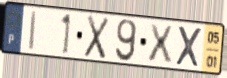1: (59, 13, 72, 56)
9: (115, 18, 138, 64)
I: (27, 9, 38, 54)
X: (83, 14, 111, 62), (174, 24, 203, 70), (146, 22, 174, 65)
